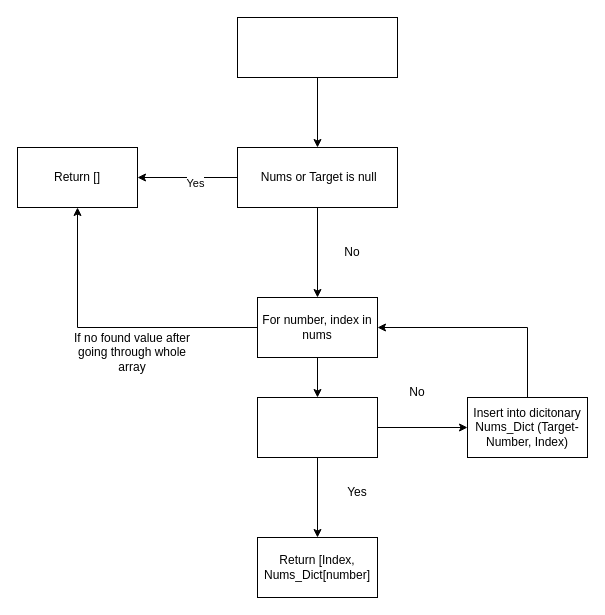
Some shapes in this 605 by 615 pixel diagram are drawn without their labels. Each missing label, with the centre of its shape:
"Check if the number is in the dictionary" goes at (317,427).
"Start Call TwoSum(nums,targets)" goes at (317,47).
